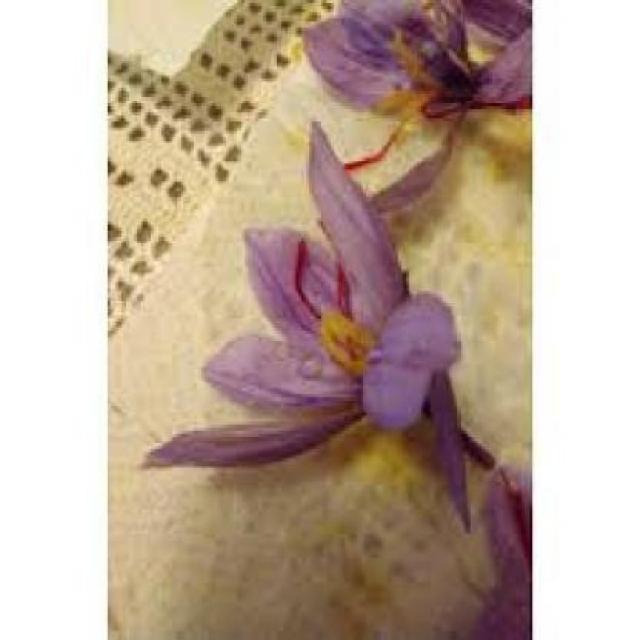Flower: (141, 119, 467, 470)
stigma: (289, 234, 326, 314)
